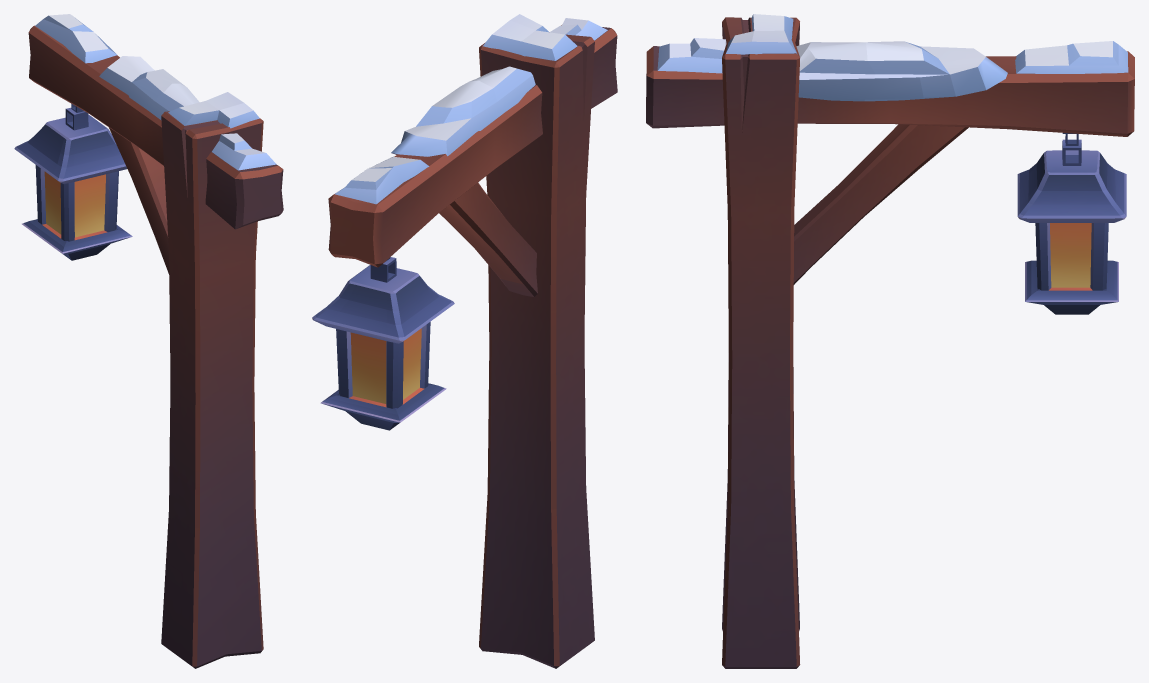
Rendered from Lantern.fbx.
3 views of the same model, side by side, from view 1: azimuth 30°, elevation 25°; view 2: azimuth 150°, elevation 25°; view 3: azimuth 270°, elevation 25° (orthographic). The views are drawn at different scales.
Visible parts, largest first — view 1: Lantern_Base, Lantern_Snow_AddOn; view 2: Lantern_Base, Lantern_Snow_AddOn; view 3: Lantern_Base, Lantern_Snow_AddOn.
Part boxes in pixels (box(x1,y1,x2,y2)): Lantern_Base: box(14, 25, 283, 668); Lantern_Snow_AddOn: box(35, 14, 276, 170); Lantern_Base: box(312, 25, 617, 668); Lantern_Snow_AddOn: box(335, 14, 607, 204); Lantern_Base: box(646, 17, 1134, 668); Lantern_Snow_AddOn: box(657, 14, 1128, 101).
Size of the model in its own units: 0.1463 by 0.9251 by 0.6562.
